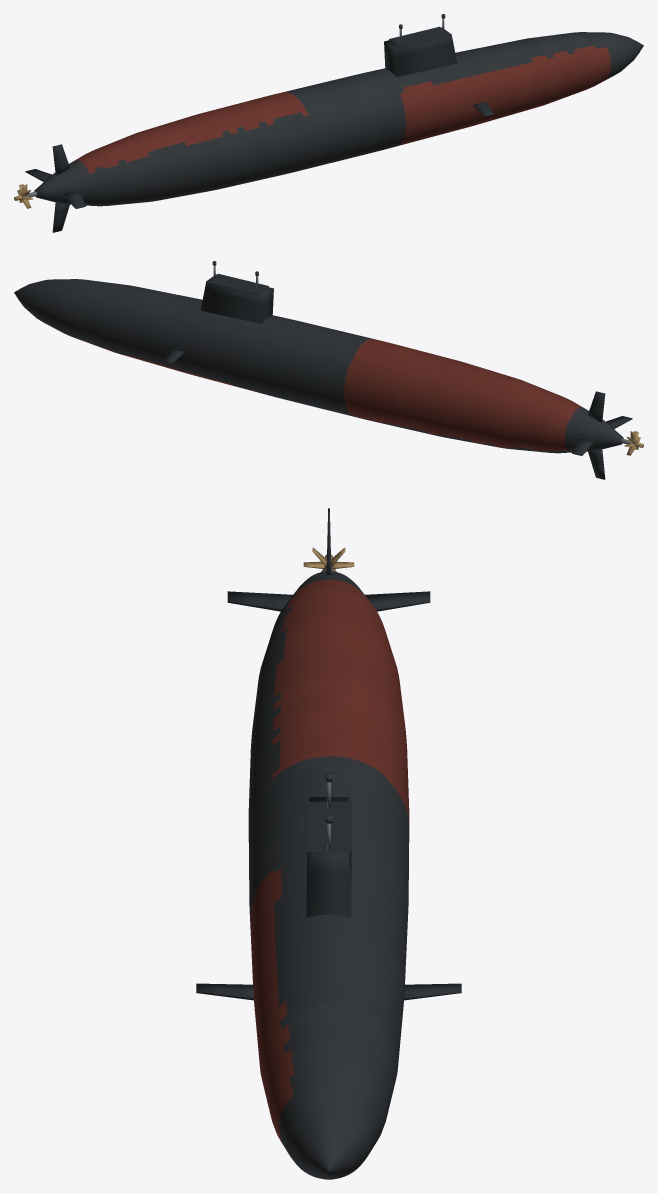
Rendered from RU_SSN_Sierra.glb.
The picture shows the model from 3 angles, top to bottom: view 1: azimuth 30°, elevation 25°; view 2: azimuth 150°, elevation 25°; view 3: azimuth 270°, elevation 25°; orthographic projection. The views are drawn at different scales.
Visible parts, largest first — view 1: RU_SSN_Sierra_LOD0; view 2: RU_SSN_Sierra_LOD0; view 3: RU_SSN_Sierra_LOD0.
Boxes of the visible parts, bbox=[...] form: RU_SSN_Sierra_LOD0: bbox=[14, 14, 643, 232]; RU_SSN_Sierra_LOD0: bbox=[14, 261, 643, 479]; RU_SSN_Sierra_LOD0: bbox=[196, 508, 461, 1179].
Size of the model in its own units: 111 by 20.66 by 20.24.
Materials: 6 (1 with a texture image).
